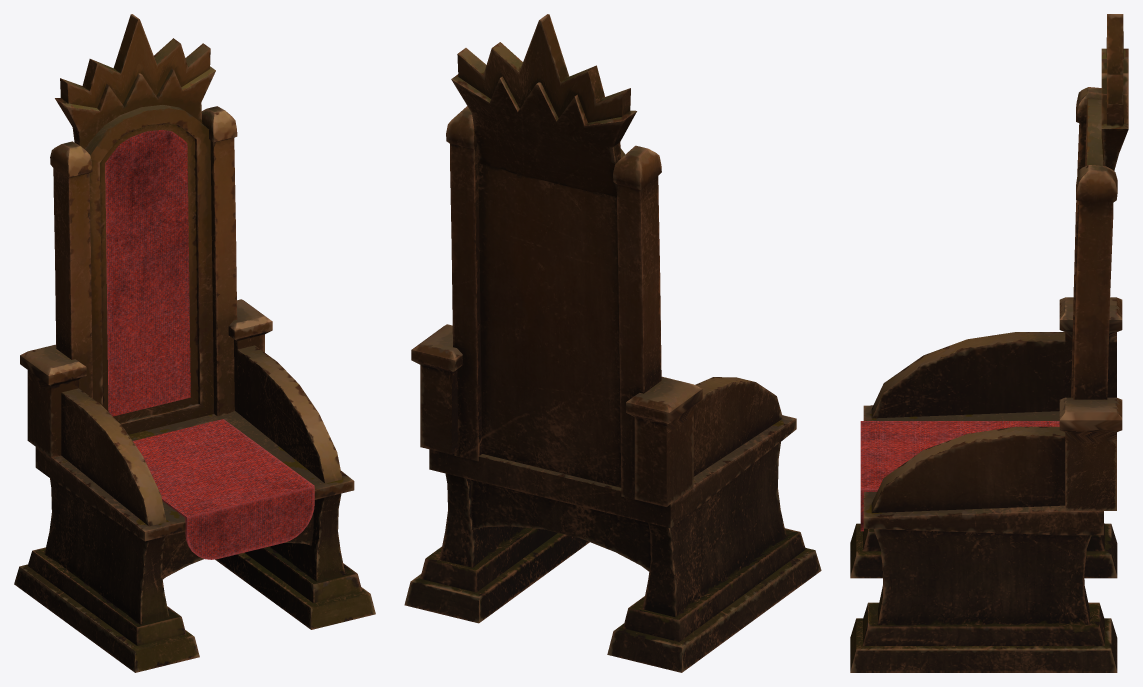
3 views of the same model, side by side, from view 1: azimuth 30°, elevation 25°; view 2: azimuth 150°, elevation 25°; view 3: azimuth 270°, elevation 25° (orthographic). The views are drawn at different scales.
Visible parts, largest first — view 1: Cubo_1, Cubo_3; view 2: Cubo_1; view 3: Cubo_1, Cubo_3.
Boxes of the visible parts, bbox=[...] form: Cubo_1: bbox=[14, 14, 375, 672]; Cubo_3: bbox=[105, 130, 314, 559]; Cubo_1: bbox=[404, 14, 821, 672]; Cubo_1: bbox=[850, 14, 1128, 672]; Cubo_3: bbox=[860, 421, 1059, 531].
Bounding box in the file's own units: 2.55 × 5.45 × 2.32.
2 materials, 2 textured.
